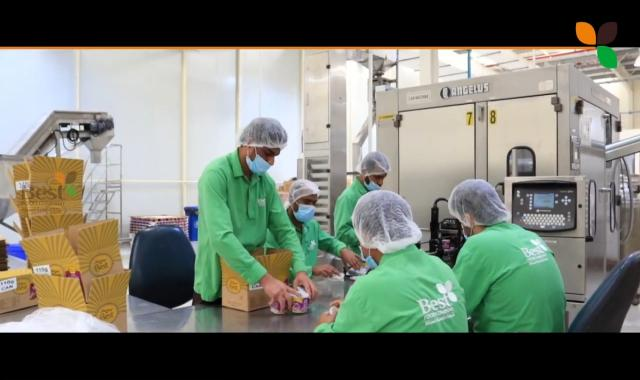hairnet: (351, 190, 419, 254), (448, 176, 512, 229), (236, 114, 285, 159), (287, 180, 320, 210), (358, 153, 390, 181)
